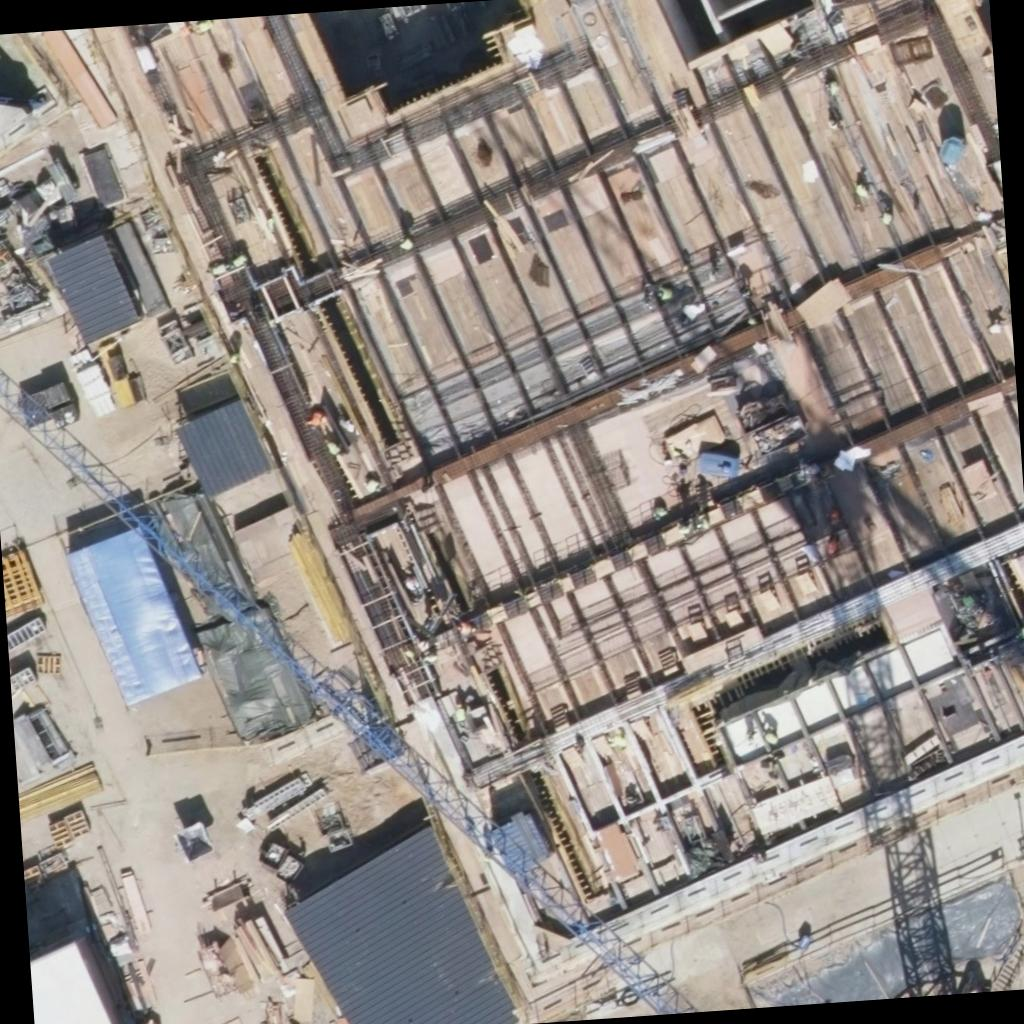kontener: (47, 232, 140, 346)
zuraw_wiezowy: (0, 307, 696, 1024)
